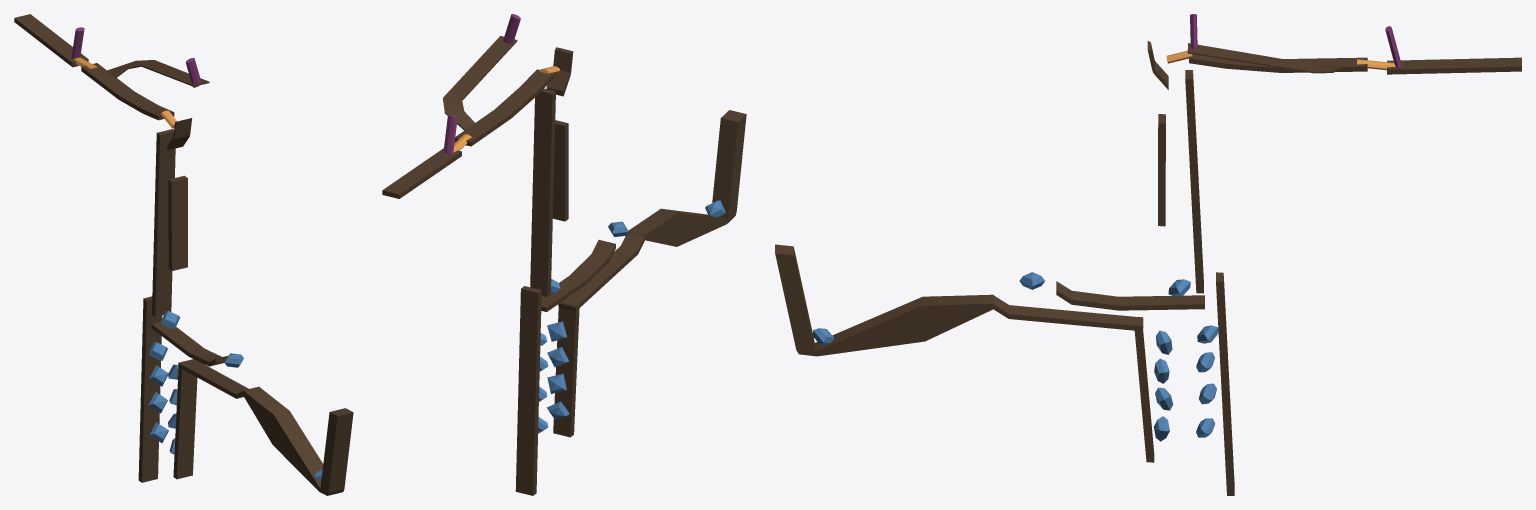
The model's file is Lvl_1_lvl_2_placeholder_mesh.fbx.
3 renders of one model, left to right at view 1: azimuth 30°, elevation 25°; view 2: azimuth 150°, elevation 25°; view 3: azimuth 270°, elevation 25°, orthographic. The views are drawn at different scales.
Parts seen in each view (by area): view 1: base_1b2, other_base, other_base2, other_base3, other_base1, base_1b, base_1a, base_1b1, base_1a1, Upper_part_1b, base; view 2: base_1b2, other_base2, other_base, other_base3, base_1b, Upper_part_1b, base_1a1, base_1b1, other_base1, base_1a, base, Pre_Fall_1a_stick; view 3: base_1b2, base_1b1, base_1a1, other_base, other_base2, base_1a, Upper_part_1b, base_1b, other_base3, other_base1.
Part boxes in pixels (bbox=[...]): base_1b2: bbox=[242, 386, 353, 495]; other_base: bbox=[152, 129, 175, 317]; other_base2: bbox=[138, 296, 162, 482]; other_base3: bbox=[173, 359, 197, 479]; other_base1: bbox=[168, 175, 187, 270]; base_1b: bbox=[81, 63, 174, 120]; base_1a: bbox=[14, 14, 88, 67]; base_1b1: bbox=[151, 321, 228, 366]; base_1a1: bbox=[178, 361, 259, 398]; Upper_part_1b: bbox=[107, 60, 209, 86]; base: bbox=[167, 118, 192, 150]; base_1b2: bbox=[628, 110, 746, 246]; other_base2: bbox=[515, 286, 541, 495]; other_base: bbox=[530, 88, 555, 296]; other_base3: bbox=[553, 300, 579, 437]; base_1b: bbox=[454, 69, 554, 146]; Upper_part_1b: bbox=[443, 36, 517, 130]; base_1a1: bbox=[558, 230, 645, 311]; base_1b1: bbox=[541, 240, 615, 311]; other_base1: bbox=[552, 120, 568, 221]; base_1a: bbox=[382, 148, 461, 198]; base: bbox=[546, 47, 573, 96]; Pre_Fall_1a_stick: bbox=[443, 115, 457, 154]; base_1b2: bbox=[775, 244, 993, 356]; base_1b1: bbox=[1056, 281, 1204, 310]; base_1a1: bbox=[991, 294, 1143, 330]; other_base: bbox=[1185, 70, 1203, 293]; other_base2: bbox=[1216, 272, 1234, 495]; base_1a: bbox=[1387, 57, 1521, 74]; Upper_part_1b: bbox=[1187, 43, 1343, 73]; base_1b: bbox=[1189, 54, 1367, 72]; other_base3: bbox=[1134, 317, 1154, 462]; other_base1: bbox=[1158, 114, 1165, 226].
Bounding box in the file's own units: 46.48 × 361 × 496.
